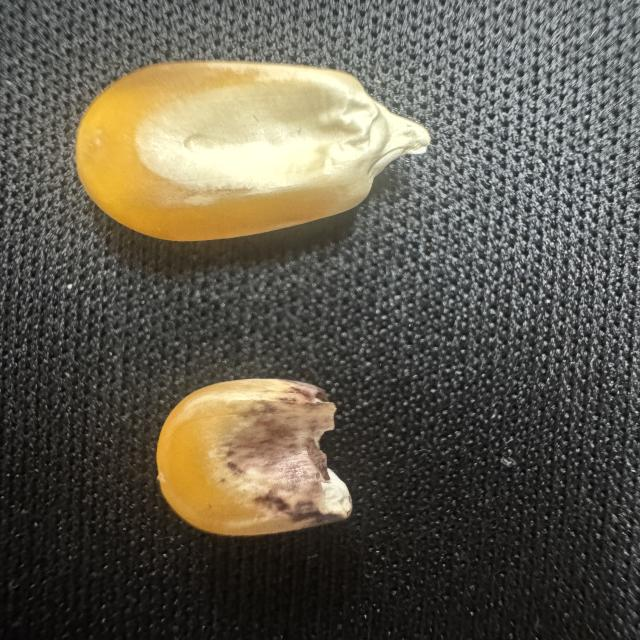Bad-Seed: (153, 370, 367, 541)
Good-Seed: (64, 48, 445, 253)
